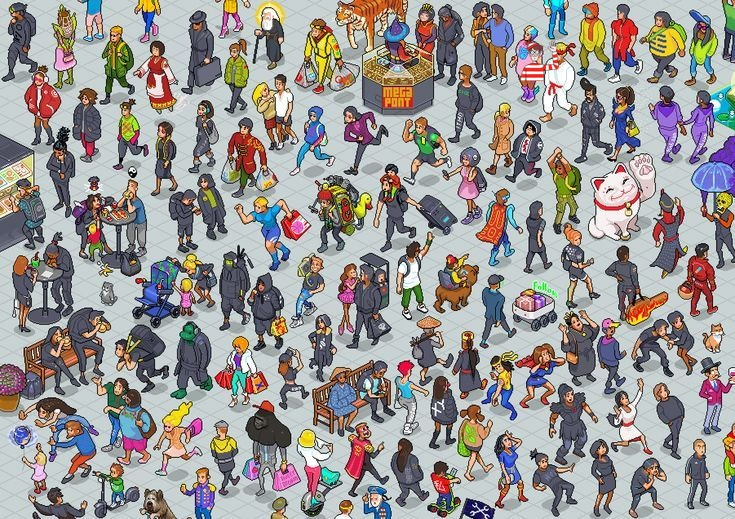waldo: (520, 41, 559, 81)
